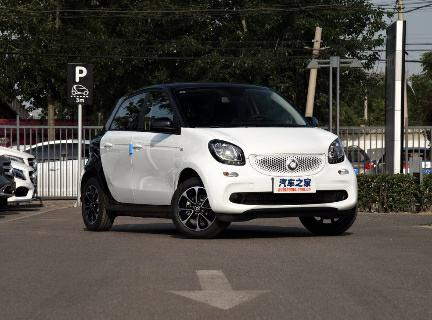smart-forfour: (73, 77, 369, 244)
